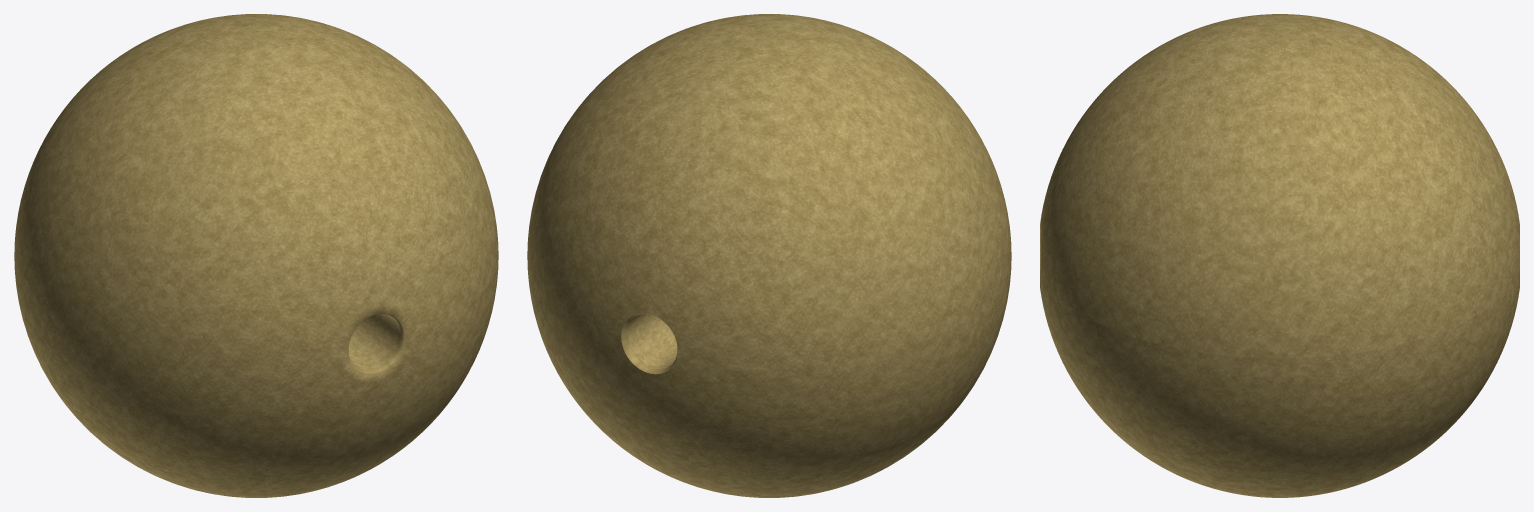
File: pyrite.glb
3 renders of one model, left to right at view 1: azimuth 30°, elevation 25°; view 2: azimuth 150°, elevation 25°; view 3: azimuth 270°, elevation 25°, orthographic.
Visible parts, largest first — view 1: pyrite.001; view 2: pyrite.001; view 3: pyrite.001.
Part boxes in pixels (box(x1,y1,x2,y2)): pyrite.001: box(14, 14, 498, 497); pyrite.001: box(527, 14, 1011, 497); pyrite.001: box(1040, 14, 1519, 497).
Size of the model in its own units: 0.008 by 0.008 by 0.00793.
1 material, 1 textured.
